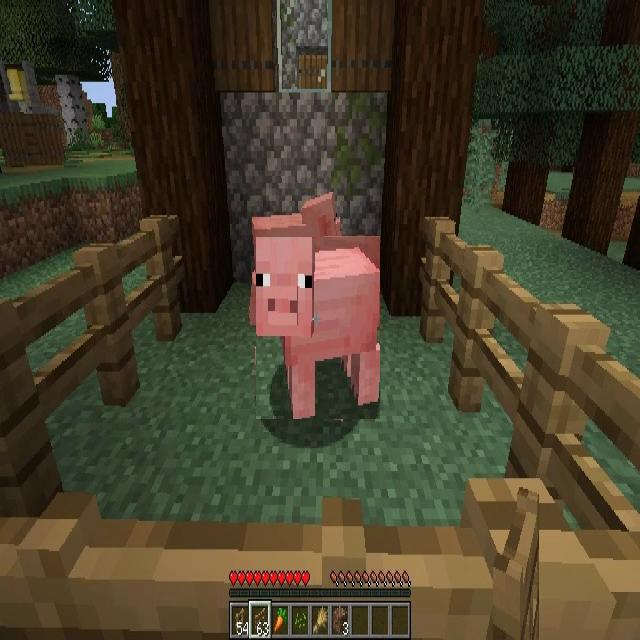pig: (256, 237, 381, 419), (250, 193, 341, 327)
